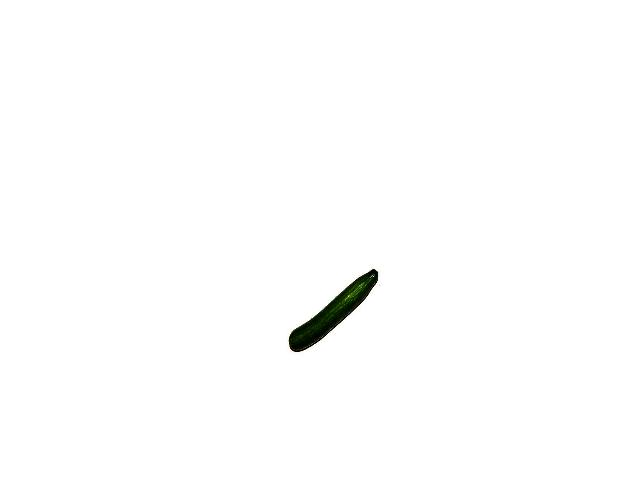cucumber: (288, 269, 377, 351)
